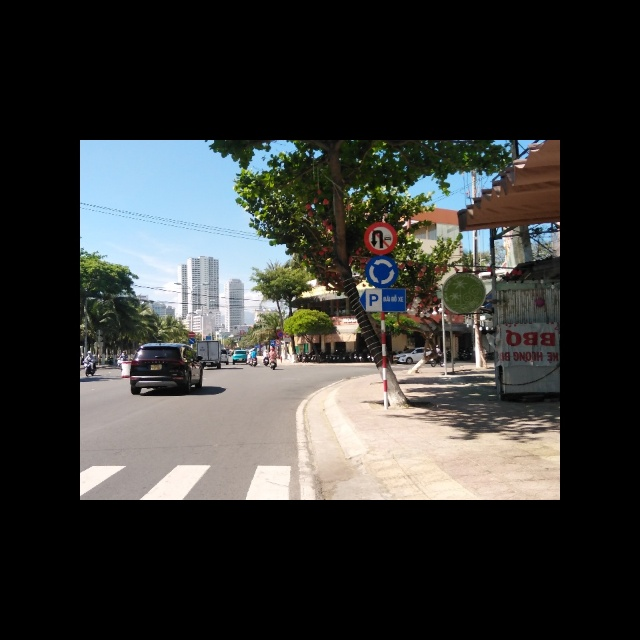Cấm xe ô tô quay đầu: (363, 222, 397, 254)
Nơi giao nhau chạy theo vòng xuyến: (366, 255, 398, 287)
Nơi đỗ xe: (359, 287, 406, 313)
